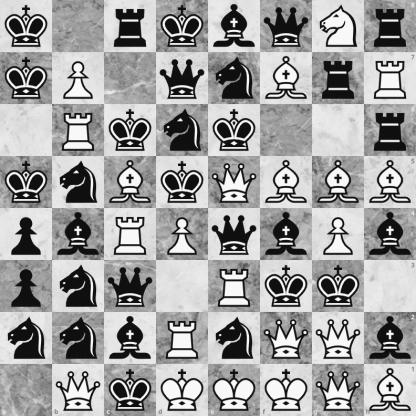B: (364, 156, 416, 209), (364, 364, 416, 416), (105, 157, 156, 208), (261, 53, 312, 104), (261, 157, 312, 208), (313, 157, 364, 208)
K: (156, 364, 209, 416), (260, 364, 312, 416), (209, 364, 260, 416)
N: (313, 1, 364, 52)
P: (53, 53, 104, 104), (157, 209, 208, 260), (313, 209, 364, 260)
Q: (52, 364, 104, 416), (312, 364, 364, 416), (209, 157, 260, 208), (261, 313, 312, 364), (313, 313, 364, 364)
R: (364, 52, 416, 104), (53, 105, 104, 156), (105, 209, 156, 260), (157, 313, 208, 364), (209, 261, 260, 312)
b: (364, 312, 416, 364), (364, 209, 416, 260), (53, 209, 104, 260), (105, 313, 156, 364), (209, 1, 260, 52), (261, 209, 312, 260)
board: (0, 0, 415, 415)
k: (104, 364, 156, 416), (1, 1, 52, 52), (1, 53, 52, 104), (1, 157, 52, 208), (105, 105, 156, 156), (157, 1, 208, 52), (157, 157, 208, 208), (209, 105, 260, 156), (261, 261, 312, 312), (313, 261, 364, 312)
n: (1, 313, 52, 364), (53, 157, 104, 208), (53, 261, 104, 312), (53, 313, 104, 364), (157, 105, 208, 156), (209, 53, 260, 104), (209, 313, 260, 364)
p: (1, 209, 52, 260), (1, 261, 52, 312)
q: (105, 261, 156, 312), (157, 53, 208, 104), (209, 209, 260, 260), (261, 1, 312, 52)
r: (364, 0, 416, 52), (364, 104, 416, 156), (105, 1, 156, 52), (313, 53, 364, 104)
